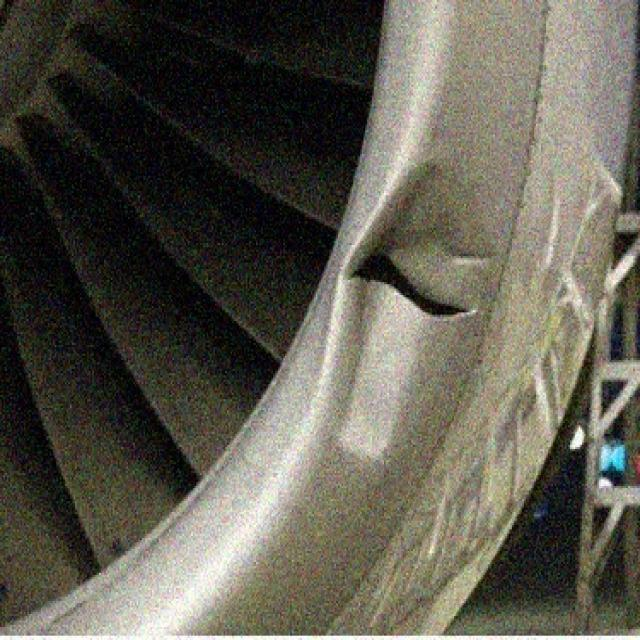crack: (344, 242, 472, 322)
